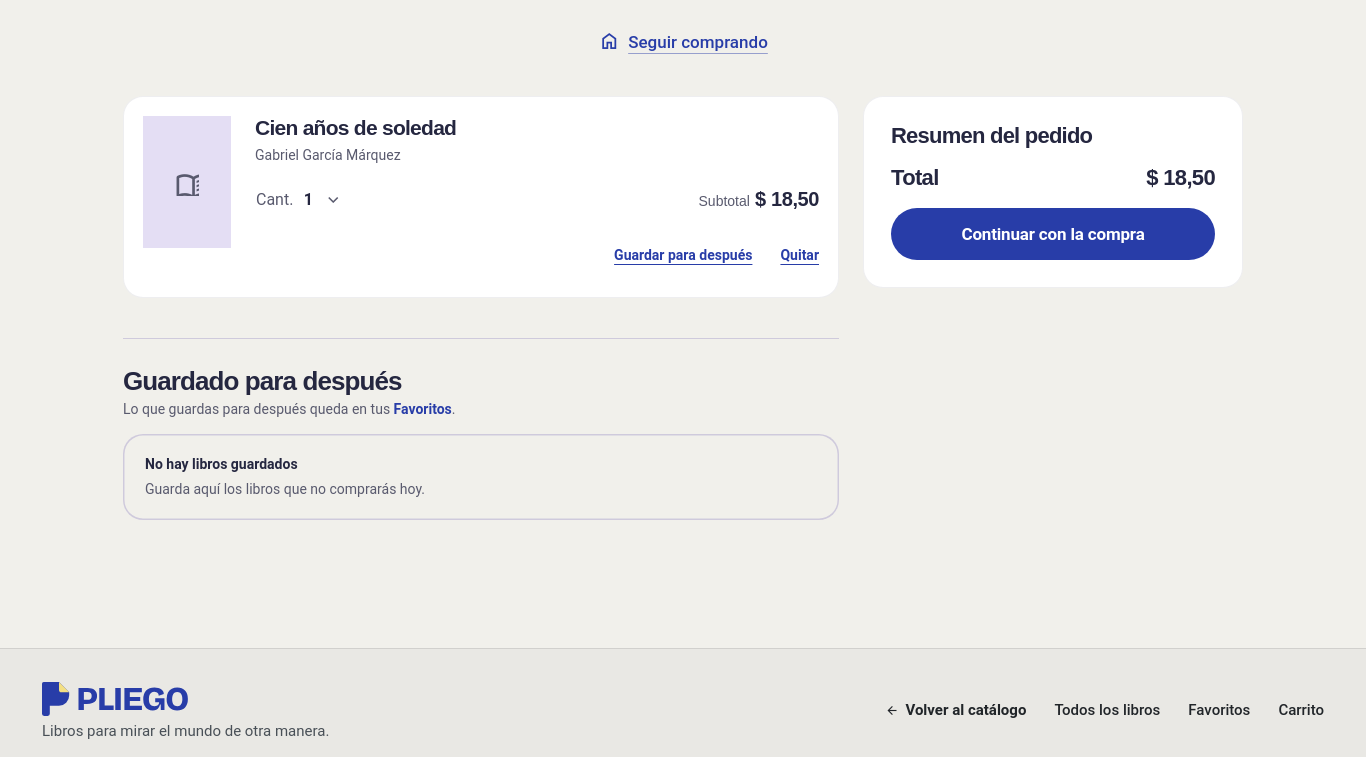
Test: CartPage › explains P3002 on a quantity change and leaves the quantity unchanged
Click the dropdown named "Cantidad de Cien años de soledad".
click(298, 200)  # box top-left (245, 178), bottom-right (350, 222)
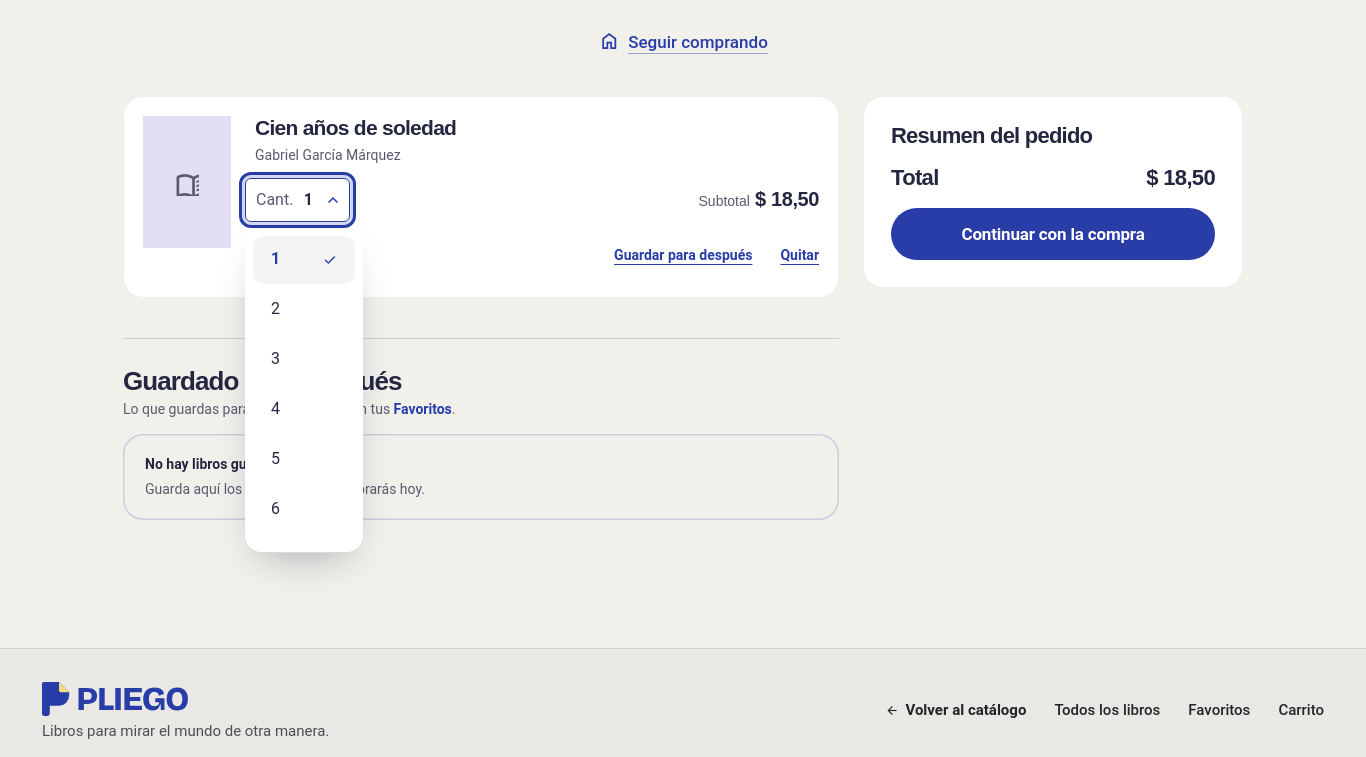
Click the option "2".
click(276, 309)  # box top-left (271, 299), bottom-right (280, 318)
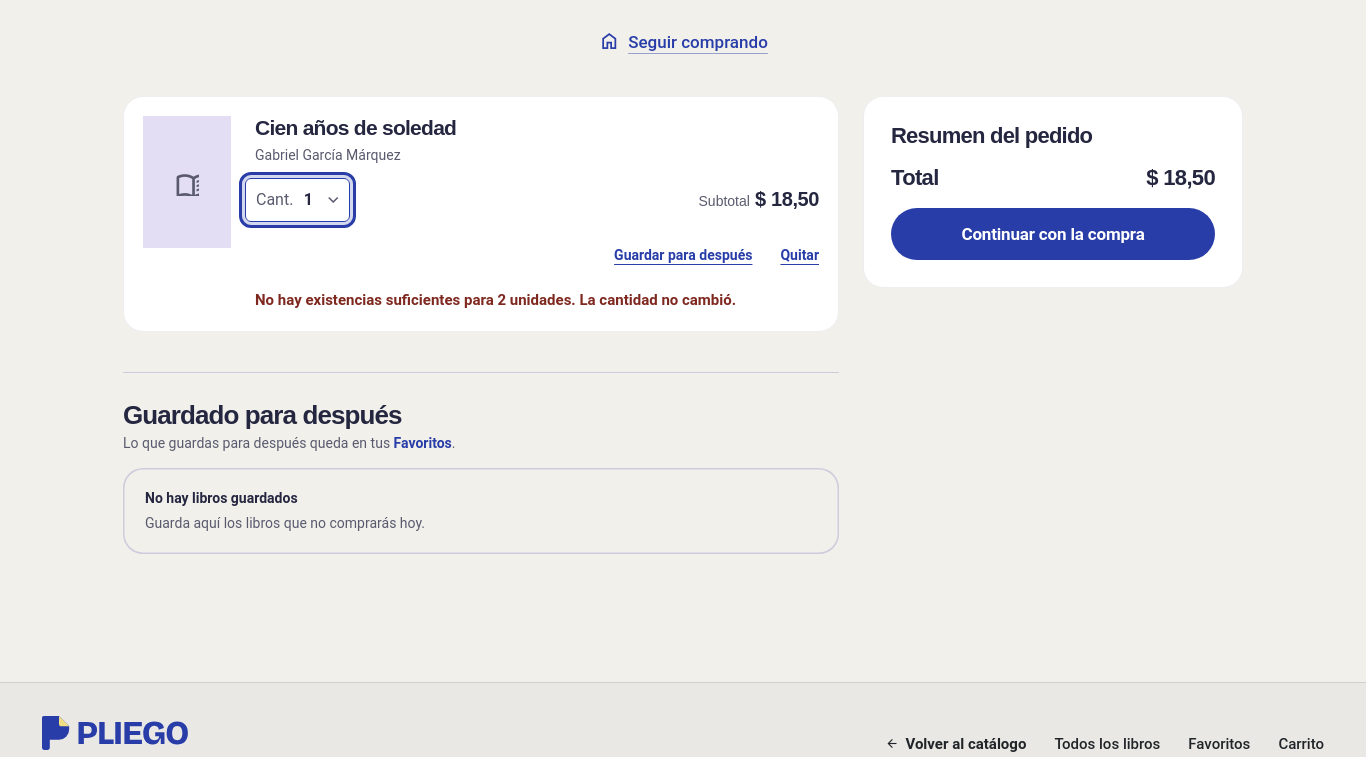
Expected: the dropdown named "Cantidad de Cien años de soledad" shows "1", top-left (245, 178), bottom-right (350, 222)
Now the message reads "No hay existencias suficientes para 2 unidades. La cantidad no cambió.", box top-left (255, 291), bottom-right (736, 309)
